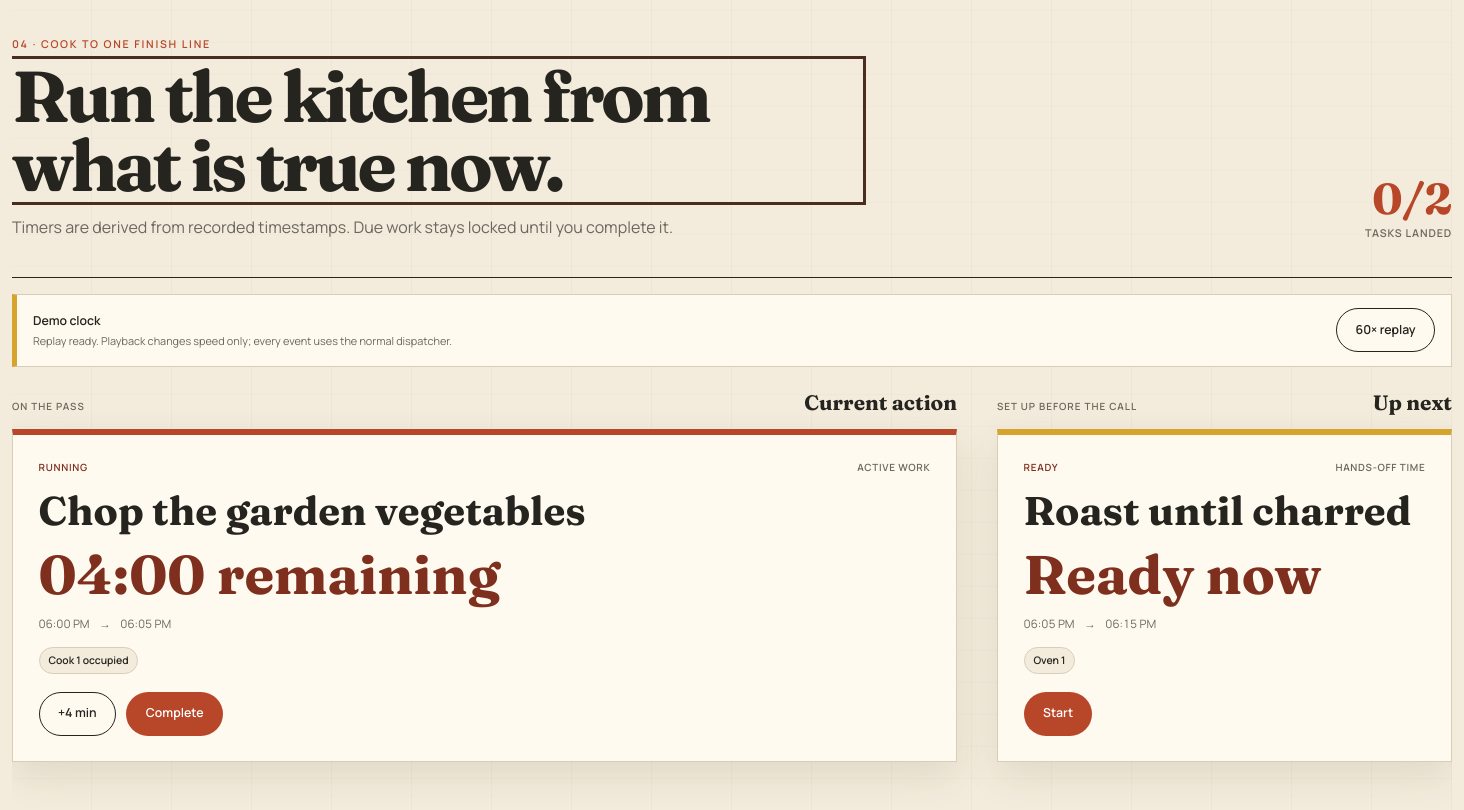
Scenario: CookScreen › locks every task action and announces busy state during replay
Click the button with aria-label "run cooking replay at 60" at [1386, 330], box [1336, 308, 1435, 352]
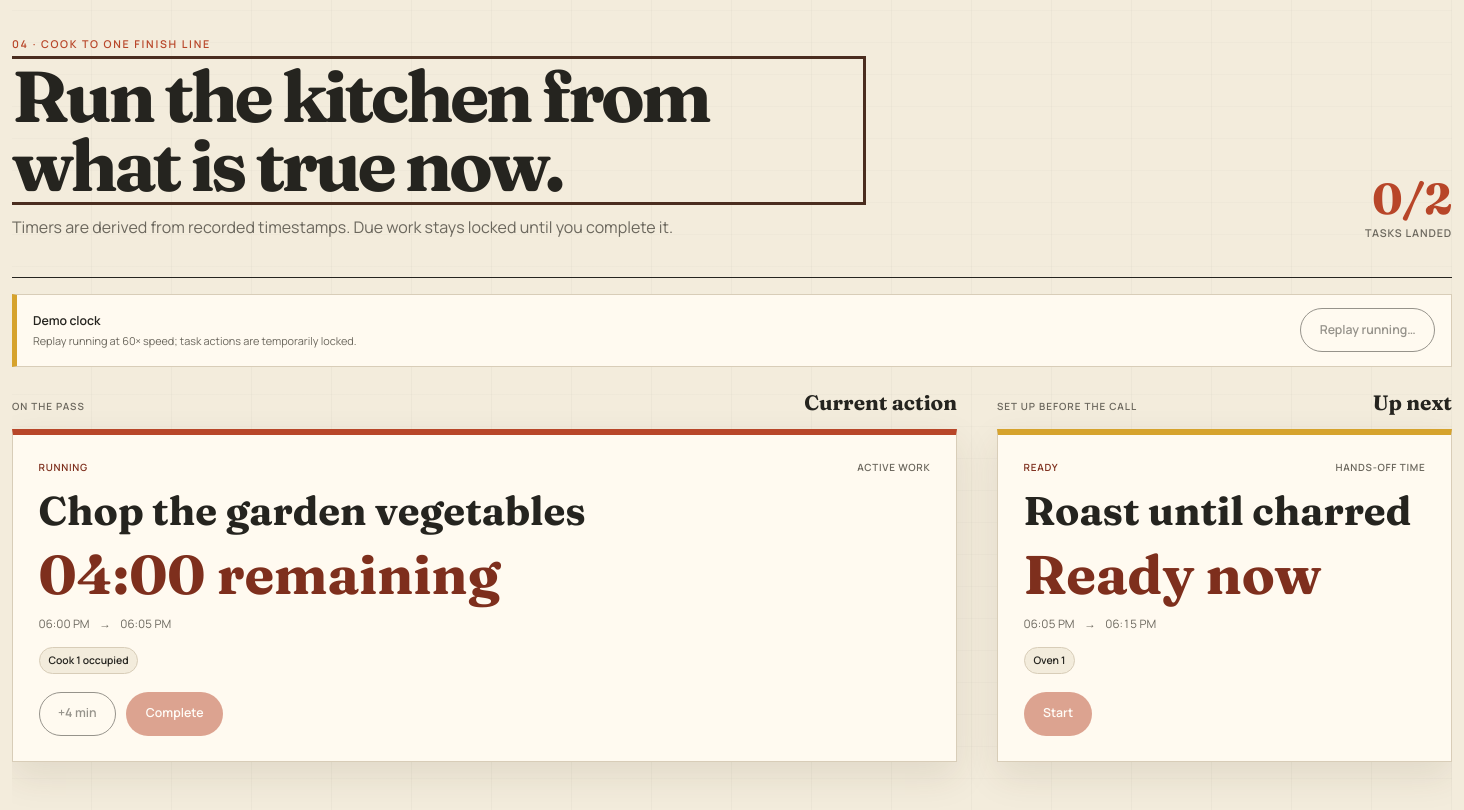
Now the message named "replay status" reads "Replay running at 60× speed; task actions are temporarily locked.", box [33, 333, 356, 348]
Now the button "+4 min" is disabled, box [39, 692, 116, 736]
Now the button "Complete" is disabled, box [126, 692, 223, 736]
